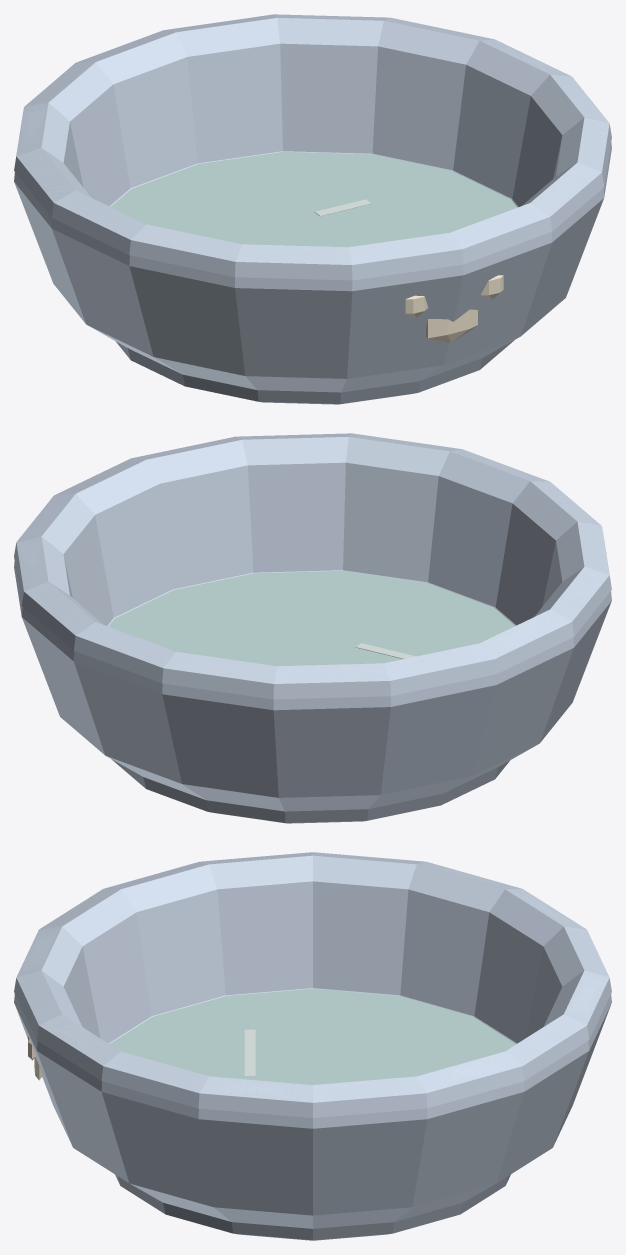
Rendered from crafted-cat-water-1-1.glb.
3 views of the same model, one above another, from view 1: azimuth 30°, elevation 25°; view 2: azimuth 150°, elevation 25°; view 3: azimuth 270°, elevation 25° (orthographic).
Visible parts, largest first — view 1: ceramic-bowl, water-level, glazed-rim, foot-ring, paw-pad; view 2: ceramic-bowl, water-level, glazed-rim, foot-ring; view 3: ceramic-bowl, water-level, glazed-rim, foot-ring, water-glint.
Part boxes in pixels (x1=…): ceramic-bowl: x1=14, y1=14, x2=611, y2=392; water-level: x1=111, y1=152, x2=517, y2=247; glazed-rim: x1=14, y1=14, x2=611, y2=280; foot-ring: x1=116, y1=340, x2=514, y2=404; paw-pad: x1=426, y1=309, x2=477, y2=343; ceramic-bowl: x1=14, y1=433, x2=611, y2=811; water-level: x1=108, y1=571, x2=514, y2=666; glazed-rim: x1=14, y1=433, x2=611, y2=699; foot-ring: x1=111, y1=759, x2=509, y2=823; ceramic-bowl: x1=14, y1=852, x2=611, y2=1228; water-level: x1=109, y1=988, x2=516, y2=1084; glazed-rim: x1=14, y1=852, x2=611, y2=1117; foot-ring: x1=115, y1=1174, x2=510, y2=1240; water-glint: x1=244, y1=1029, x2=255, y2=1076.
Size of the model in its own units: 0.76 by 0.265 by 0.76.
